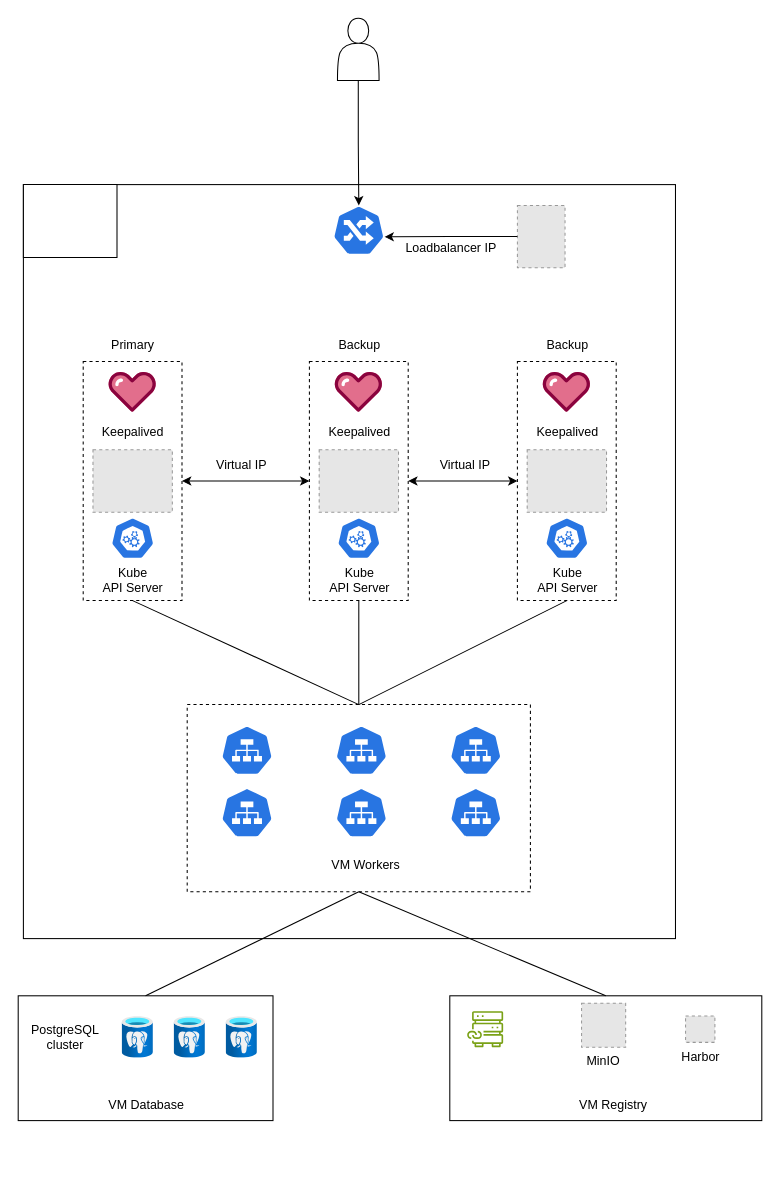
Some shapes in this 780 by 1191 pixel diagram are drawn without their labels. Grey dashed boxes stand in for pictures. Each missing label, with the centre of its shape:
Ingress Controller/ API Gateway: the point at 358,229
K8s Cluster: the point at 69,220
NFS: the point at 485,1029
